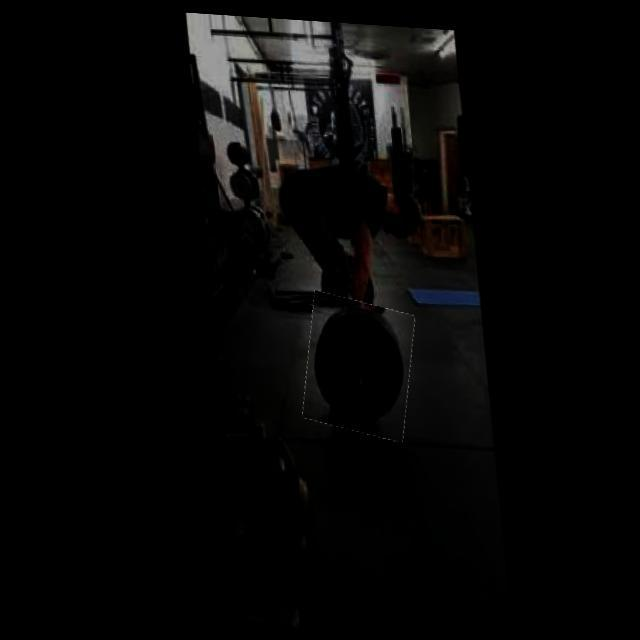barbell: (292, 290, 414, 435)
